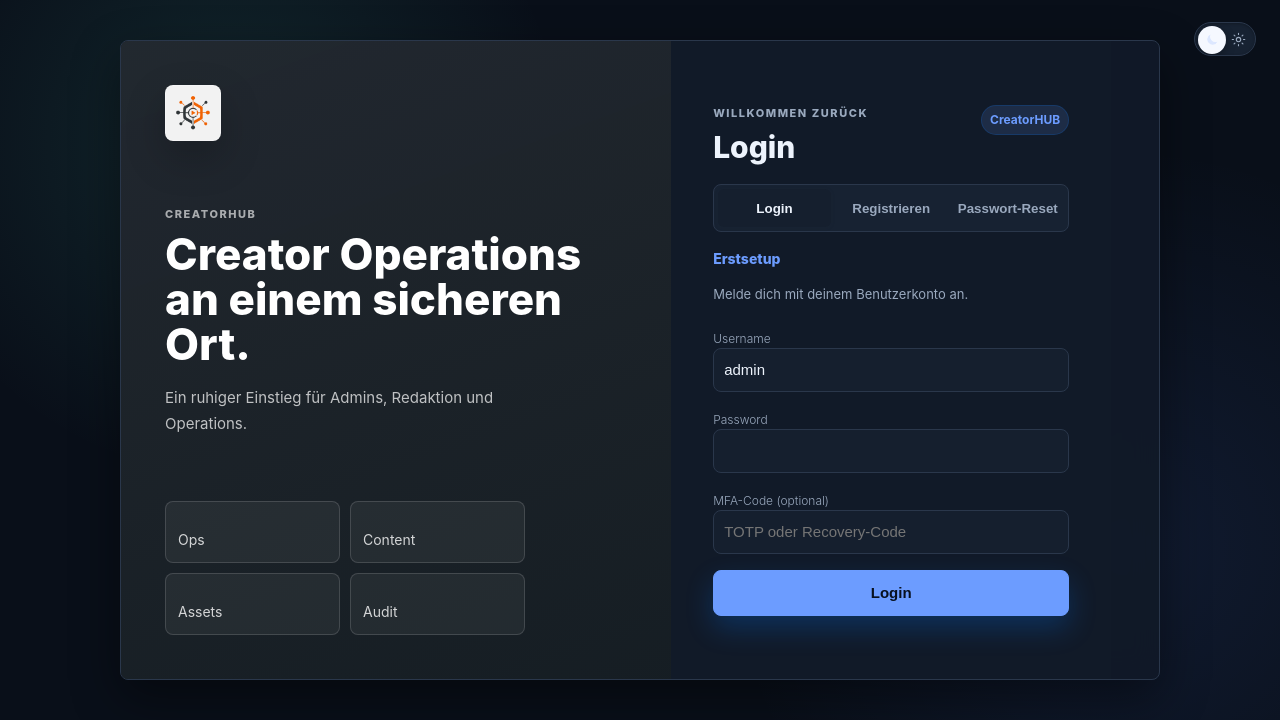
Test case: LoginPage › validiert Passwortabgleich bei Registrierung
Click the button "Registrieren" at (891, 208), box 835,189 -> 948,227
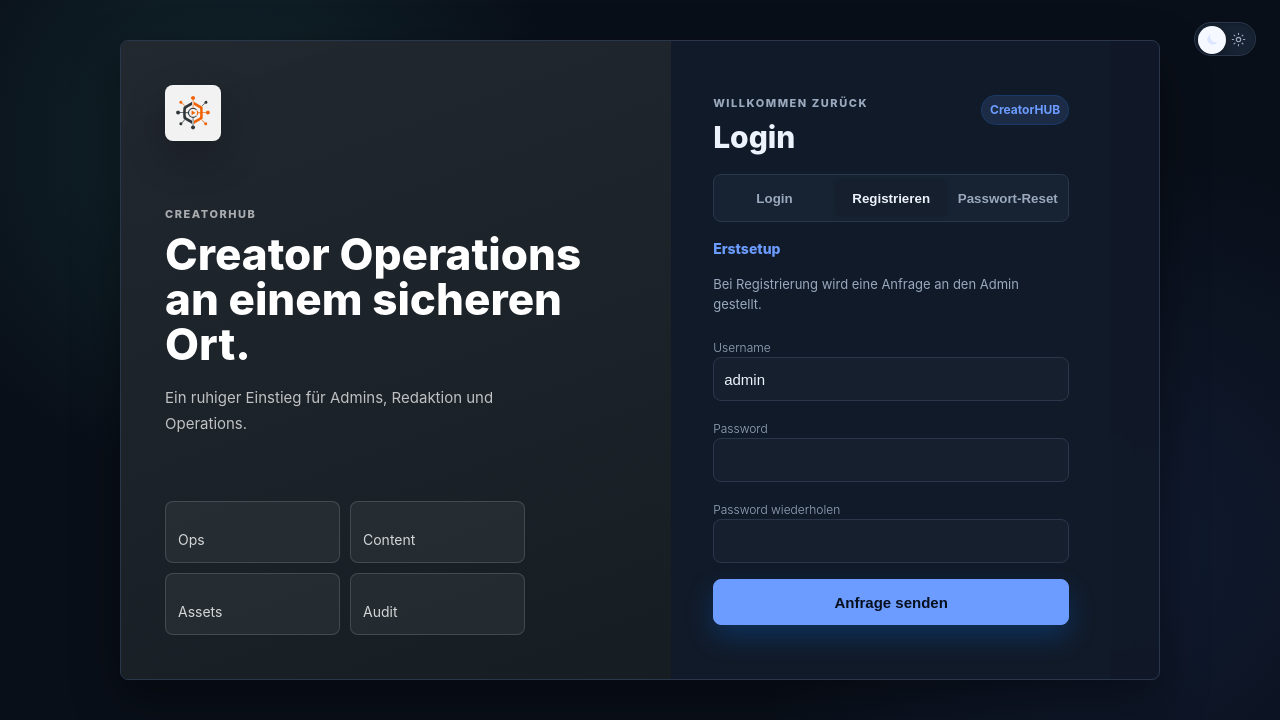
Type "Strong!Pass123" into the password field labelled "Password" at (891, 460), box 713,438 -> 1069,482
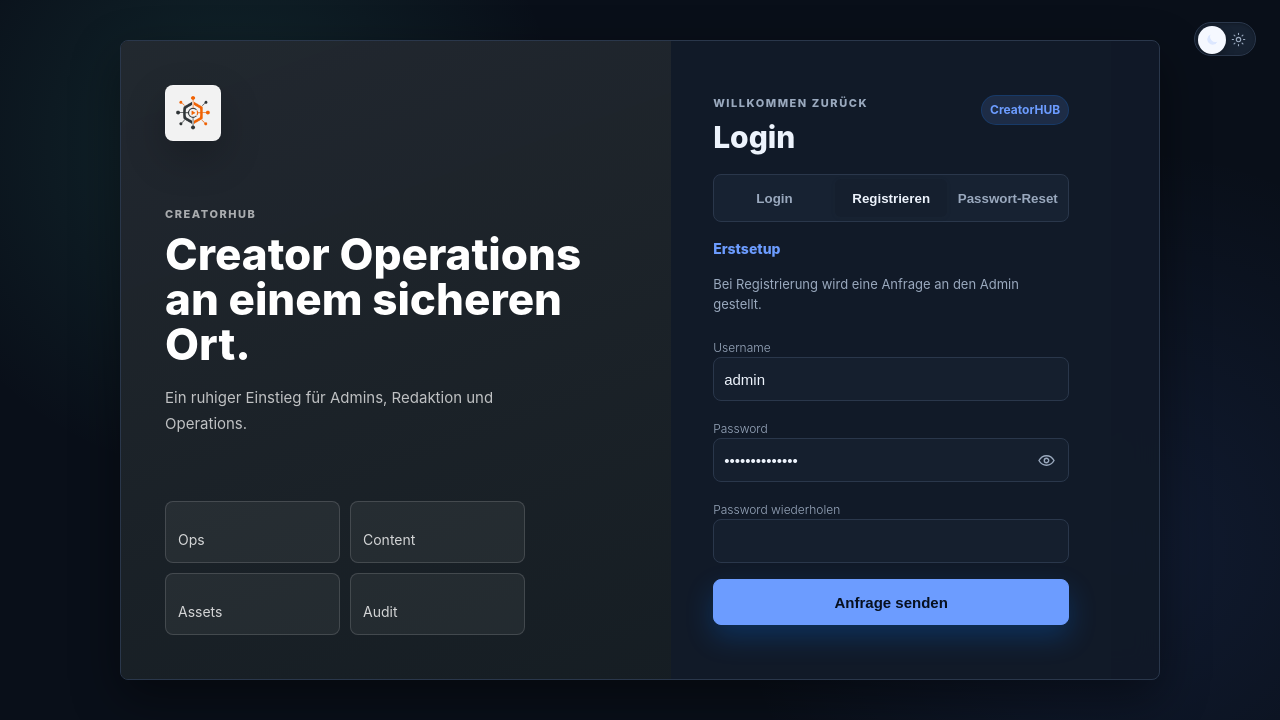
Type "Different!Pass123" into the password field labelled "Password wiederholen" at (891, 541), box 713,519 -> 1069,563
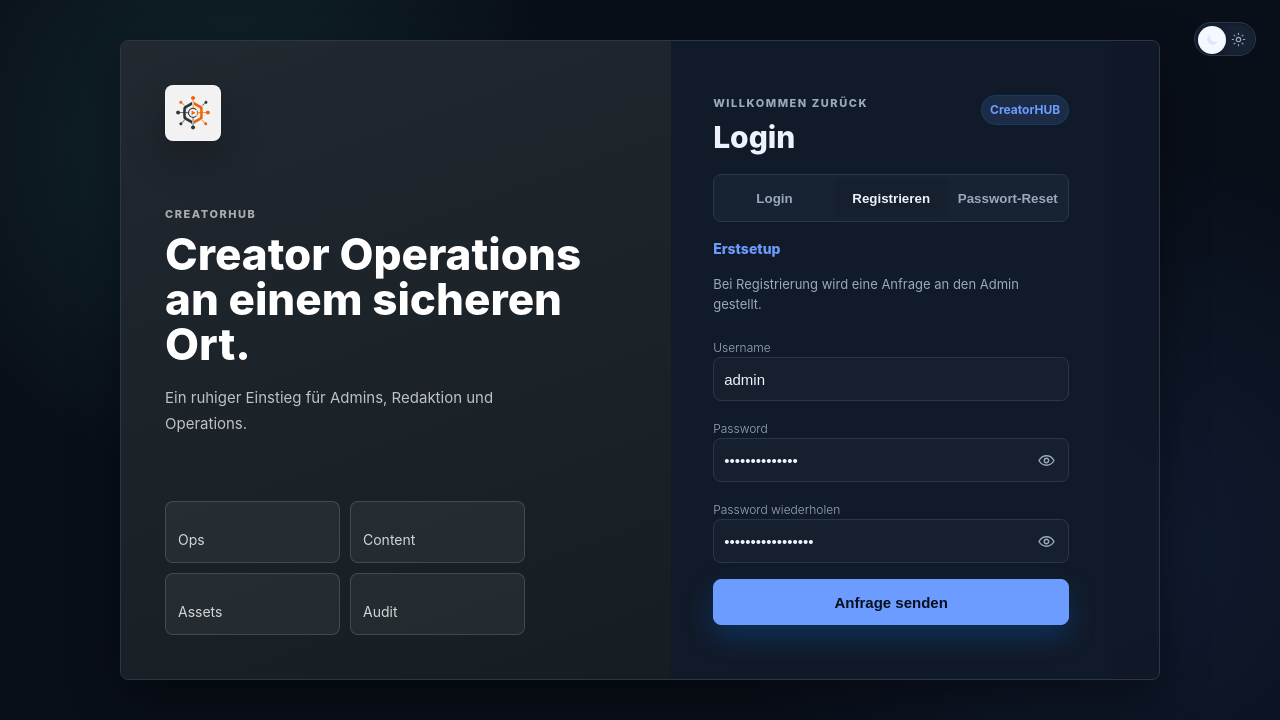
Click the button "Anfrage senden" at (891, 602), box 713,579 -> 1069,625
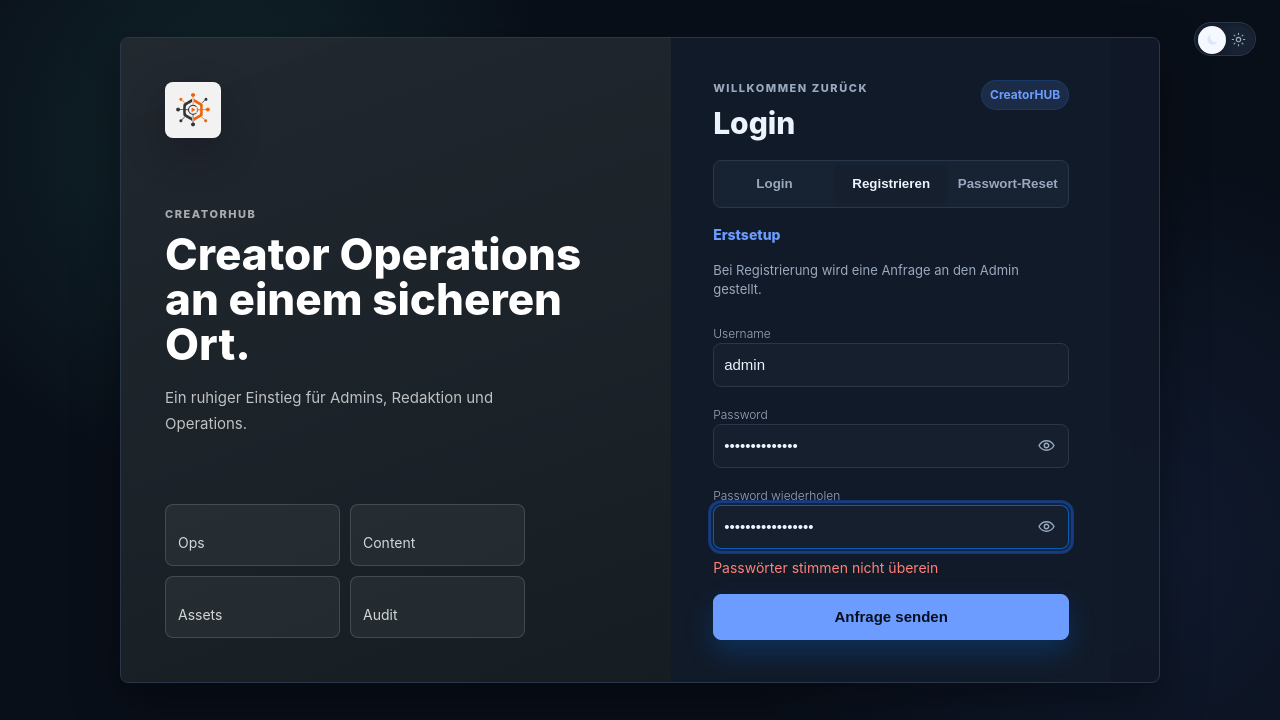
Expected: the text "Passwörter stimmen nicht überein" is shown, 713,559 -> 938,576
